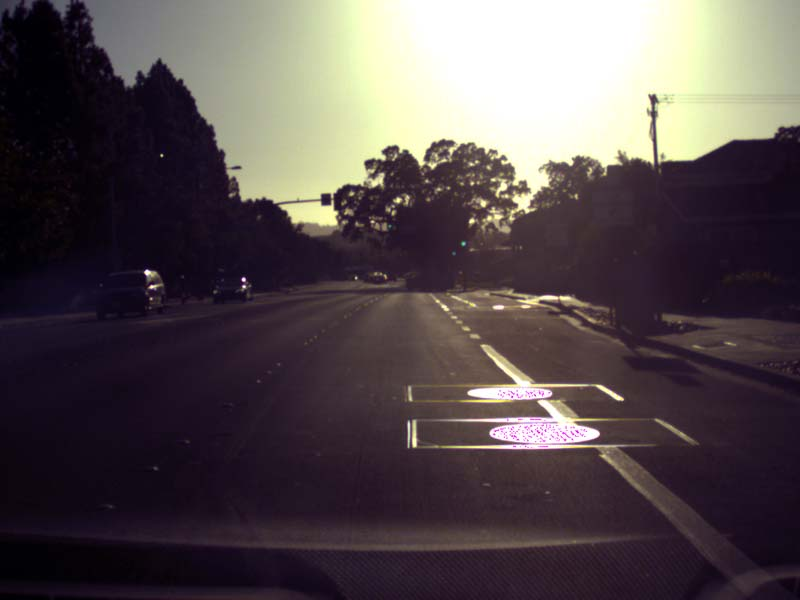Green: (458, 237, 467, 251), (387, 216, 392, 229), (450, 248, 456, 257)
